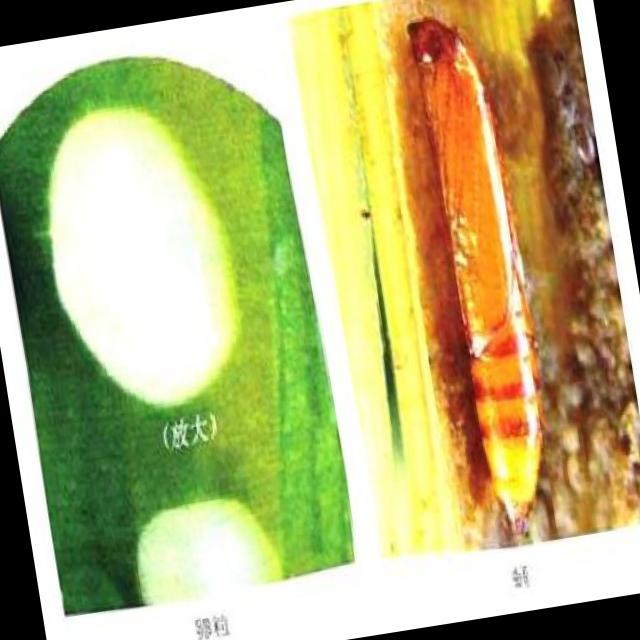whorl-maggot: (402, 4, 572, 542)
